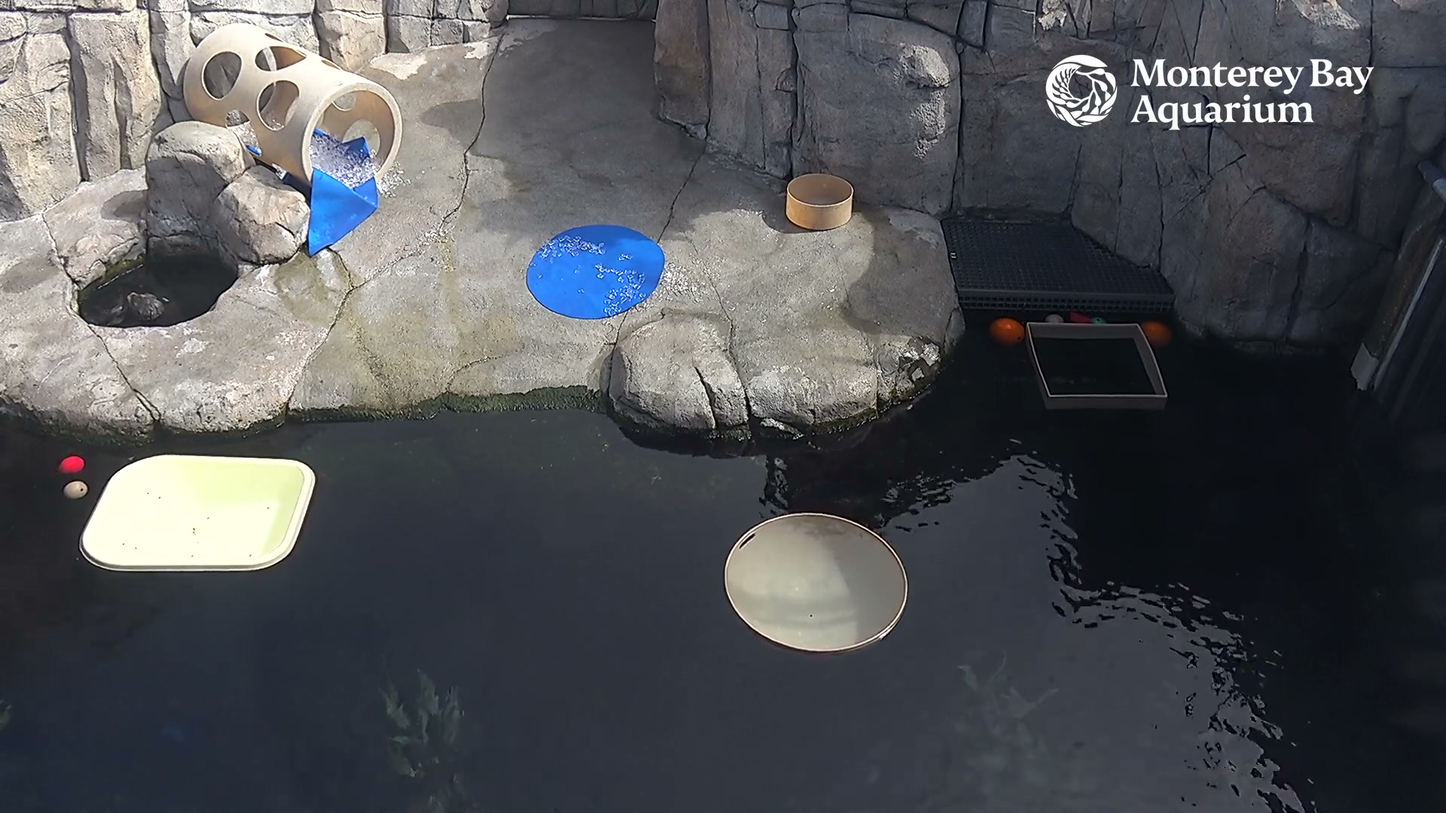Southern Sea Otter: (96, 289, 179, 327)
